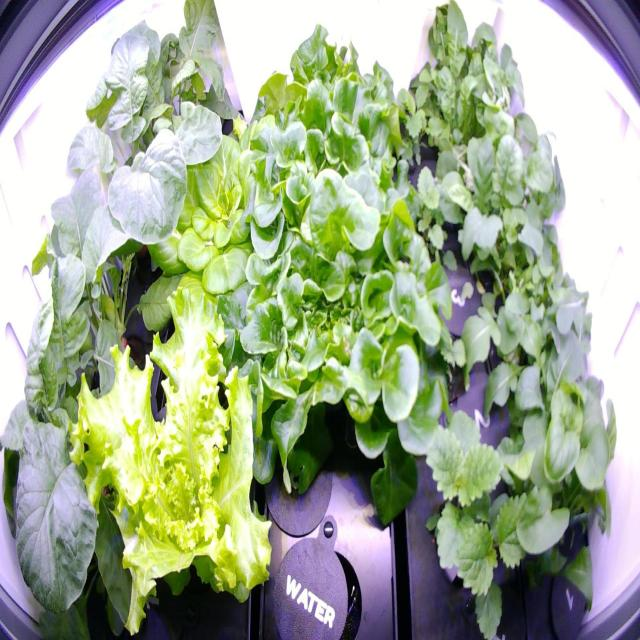young: (132, 109, 320, 348)
